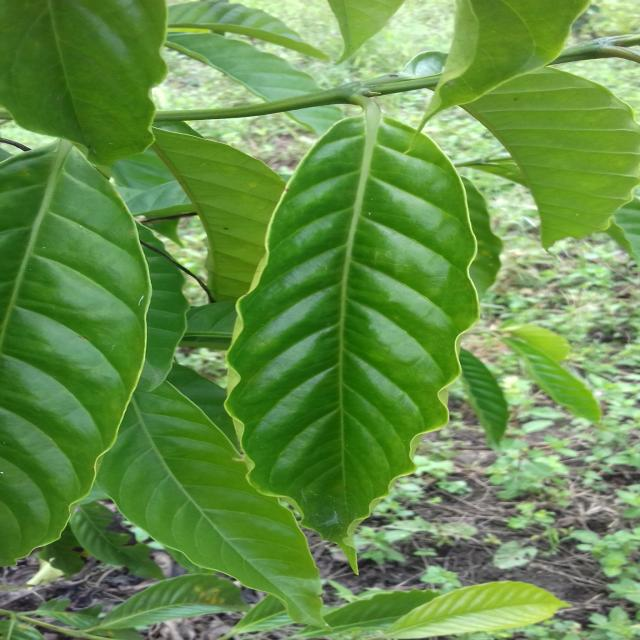Sanas: (223, 117, 501, 550)
